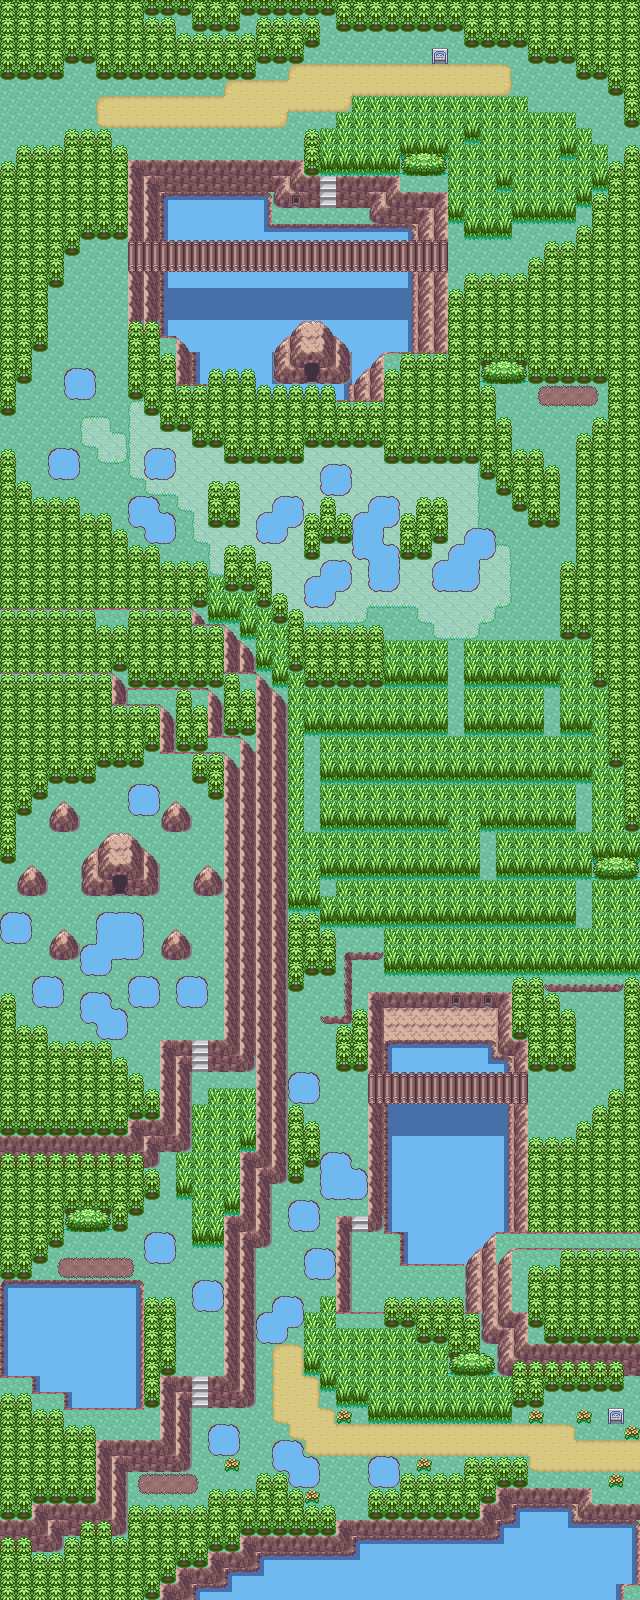cave: (263, 317, 359, 390), (77, 832, 163, 901)
